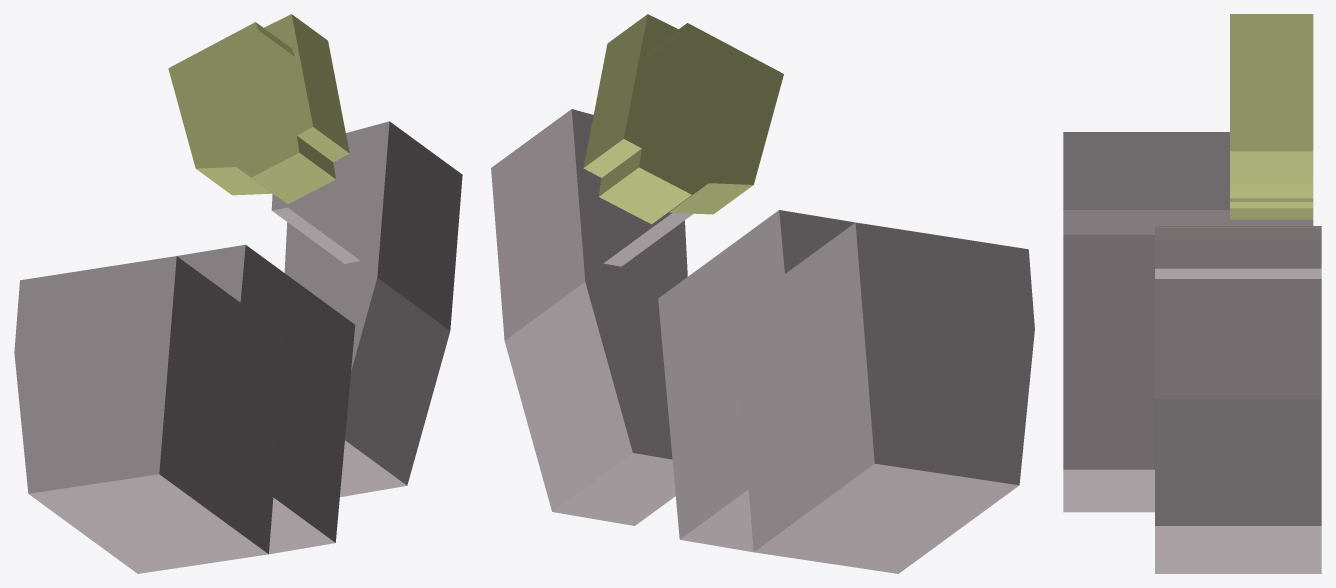
3 renders of one model, left to right at view 1: azimuth 30°, elevation 25°; view 2: azimuth 150°, elevation 25°; view 3: azimuth 270°, elevation 25°, orthographic. The views are drawn at different scales.
Visible parts, largest first — view 1: 0_3_1_3_0_0_0_3_1; view 2: 0_3_1_3_0_0_0_3_1; view 3: 0_3_1_3_0_0_0_3_1.
Part boxes in pixels (<box>): 0_3_1_3_0_0_0_3_1: <box>14,14,462,573</box>; 0_3_1_3_0_0_0_3_1: <box>491,14,1034,573</box>; 0_3_1_3_0_0_0_3_1: <box>1063,14,1321,573</box>.
Bounding box in the file's own units: 35.95 × 39.32 × 18.6.
